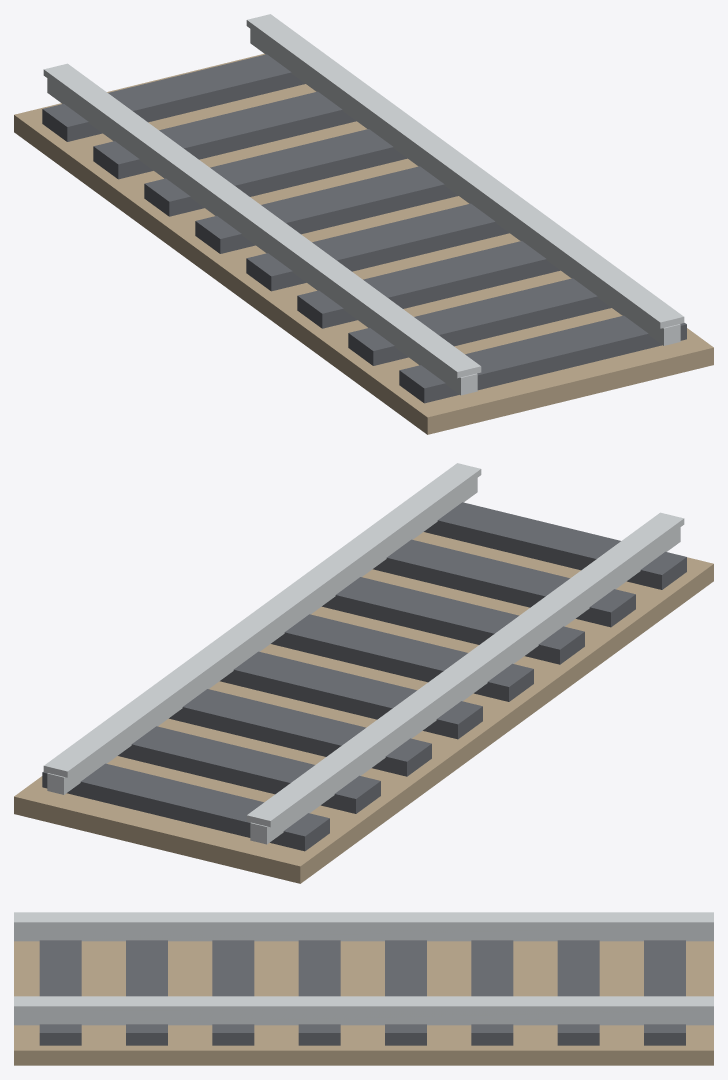
The model's file is radio-telescope-array-and-field-station-rail-track-sec-eaec0947__37618.glb.
The picture shows the model from 3 angles, top to bottom: view 1: azimuth 30°, elevation 25°; view 2: azimuth 150°, elevation 25°; view 3: azimuth 270°, elevation 25°; orthographic projection. The views are drawn at different scales.
Parts seen in each view (by area): view 1: rail-track-section; view 2: rail-track-section; view 3: rail-track-section.
Boxes of the visible parts, x1=… form: rail-track-section: x1=14, y1=14, x2=713, y2=434; rail-track-section: x1=14, y1=463, x2=713, y2=883; rail-track-section: x1=14, y1=912, x2=713, y2=1065.
Bounding box in the file's own units: 2.4 × 0.4449 × 6.
